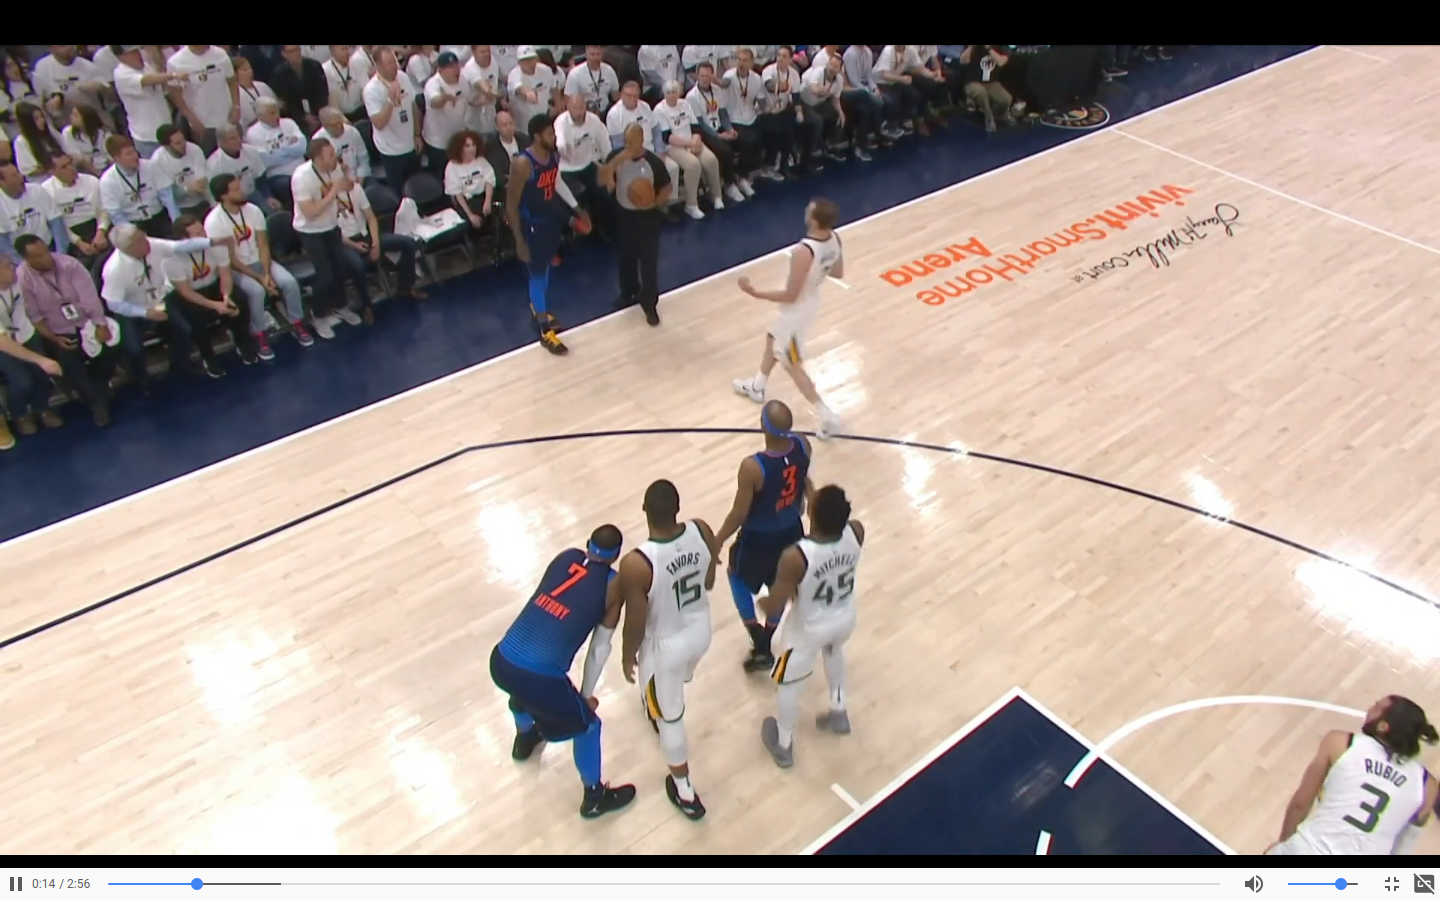basketball: (625, 177, 658, 212)
basketball player: (619, 474, 730, 820), (501, 525, 628, 805), (1268, 682, 1440, 873), (725, 191, 859, 411), (768, 492, 867, 746), (724, 402, 819, 663), (502, 108, 592, 366)
referee: (599, 122, 672, 332)
